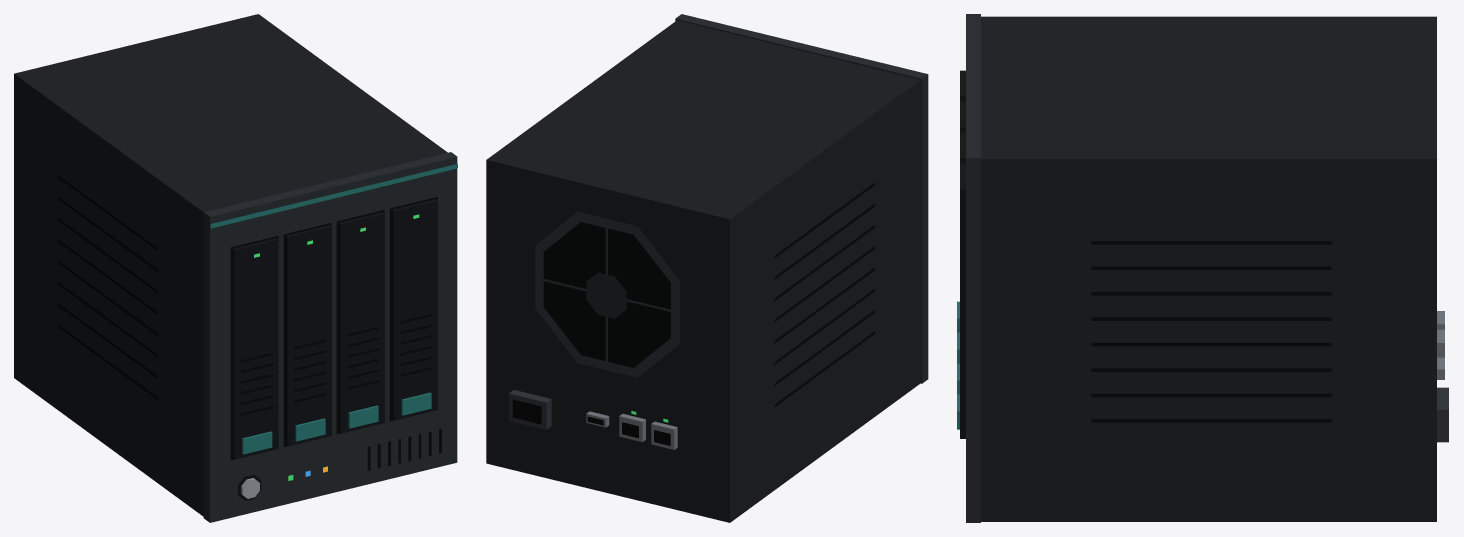
File: Storage_NAS_Desktop.glb
3 views of the same model, side by side, from view 1: azimuth 30°, elevation 25°; view 2: azimuth 150°, elevation 25°; view 3: azimuth 270°, elevation 25° (orthographic). The views are drawn at different scales.
Parts seen in each view (by area): view 1: Body; view 2: Body; view 3: Body.
Boxes of the visible parts, x1=… form: Body: x1=14, y1=14, x2=457, y2=522; Body: x1=486, y1=14, x2=928, y2=522; Body: x1=957, y1=14, x2=1448, y2=522.
Size of the model in its own units: 0.17 by 0.205 by 0.246.
